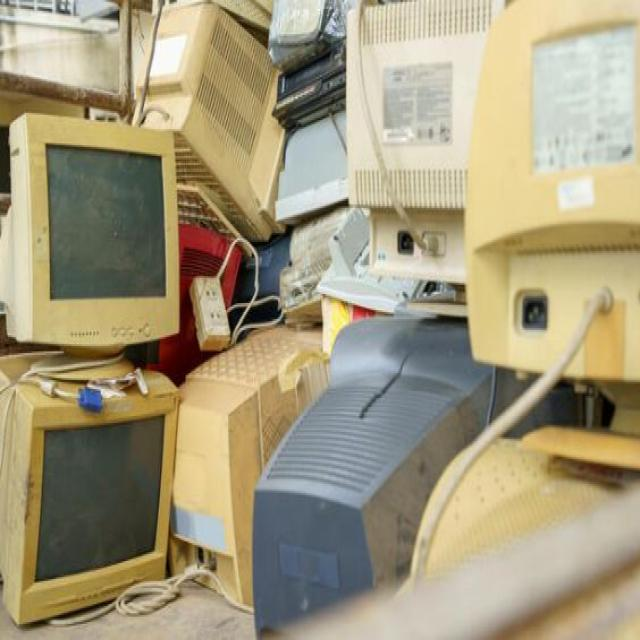electronic: (8, 98, 218, 389), (13, 345, 196, 626)
